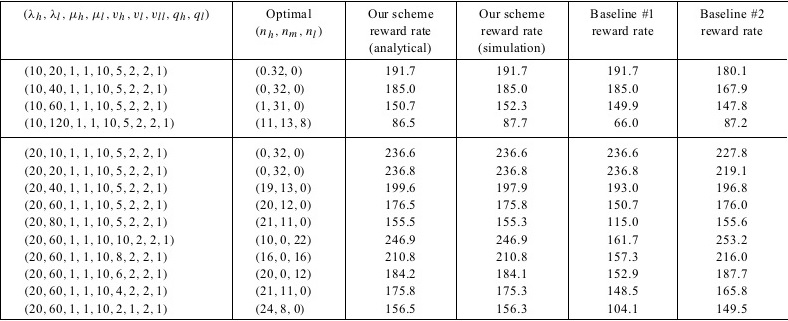column: (22, 1, 211, 321), (476, 1, 546, 321), (255, 1, 323, 321), (367, 1, 434, 321), (699, 1, 765, 321), (589, 1, 654, 321)
row: (1, 302, 788, 316), (1, 267, 788, 280), (1, 41, 787, 54), (1, 250, 787, 263), (1, 26, 788, 38), (1, 65, 788, 77), (1, 147, 788, 159), (1, 165, 788, 177), (1, 285, 788, 297), (1, 82, 787, 94), (1, 182, 787, 194), (1, 199, 787, 211), (1, 9, 788, 20), (1, 117, 788, 128), (1, 100, 787, 111), (1, 234, 787, 245), (1, 217, 788, 227)
